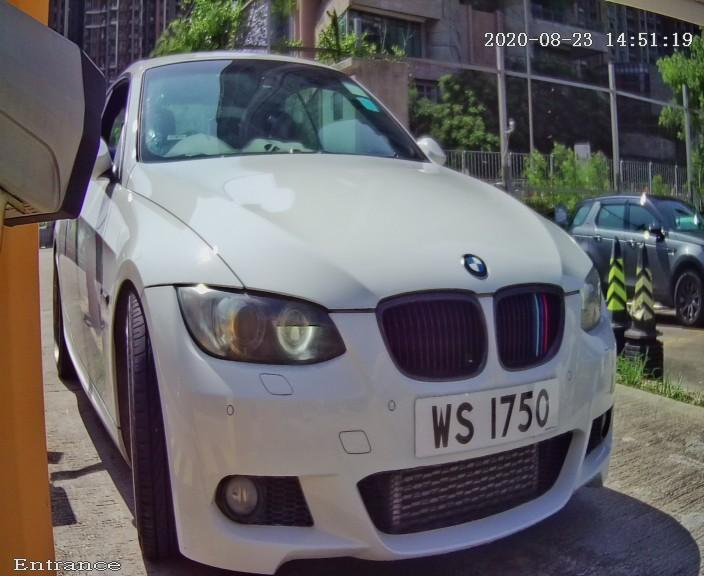License Plate: (375, 340, 594, 485)
